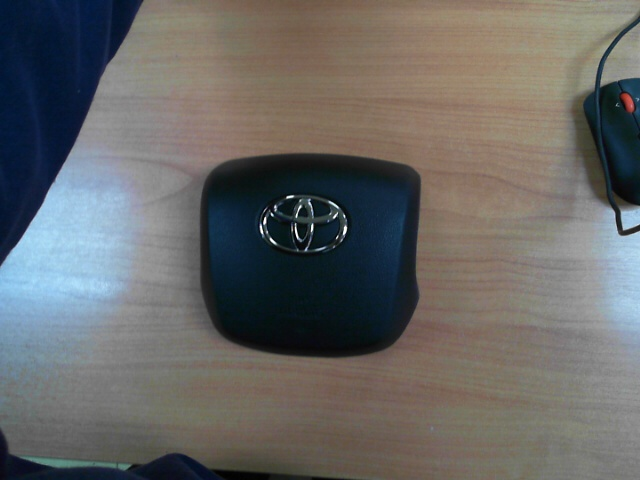AirbagV2: (200, 154, 419, 356)
